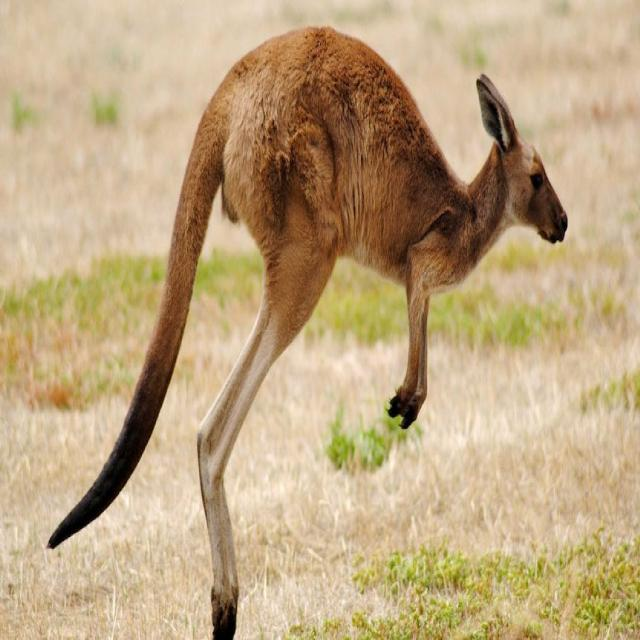Kangaroo: (37, 17, 579, 640)
